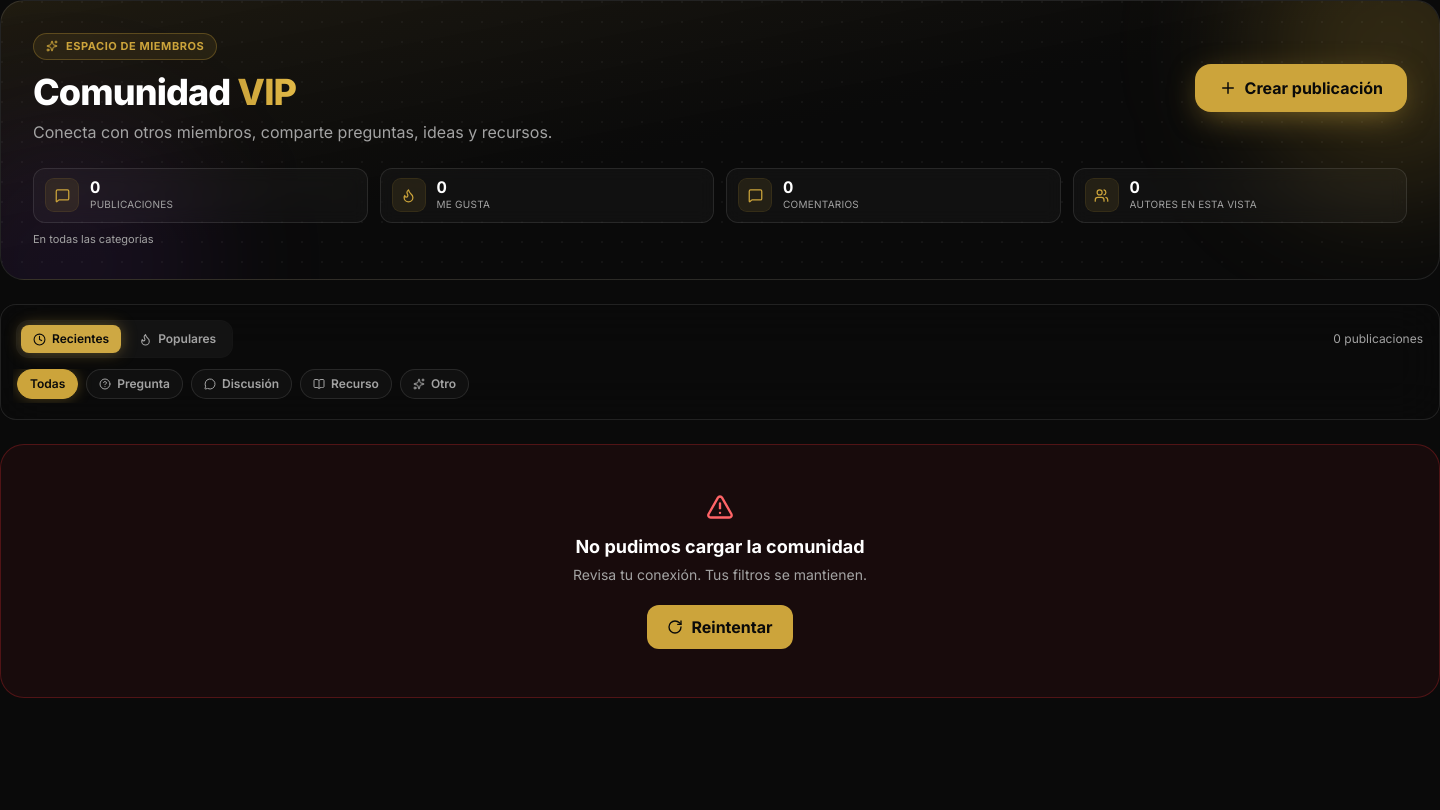
Scenario: CommunityFeed › un error de carga se muestra como error con Reintentar, no como «aún no hay publicaciones»
Expected: the heading "No pudimos cargar la comunidad" is shown, [575,536,865,557]
Click the button "Reintentar" at (720, 627), box [648,605,793,649]
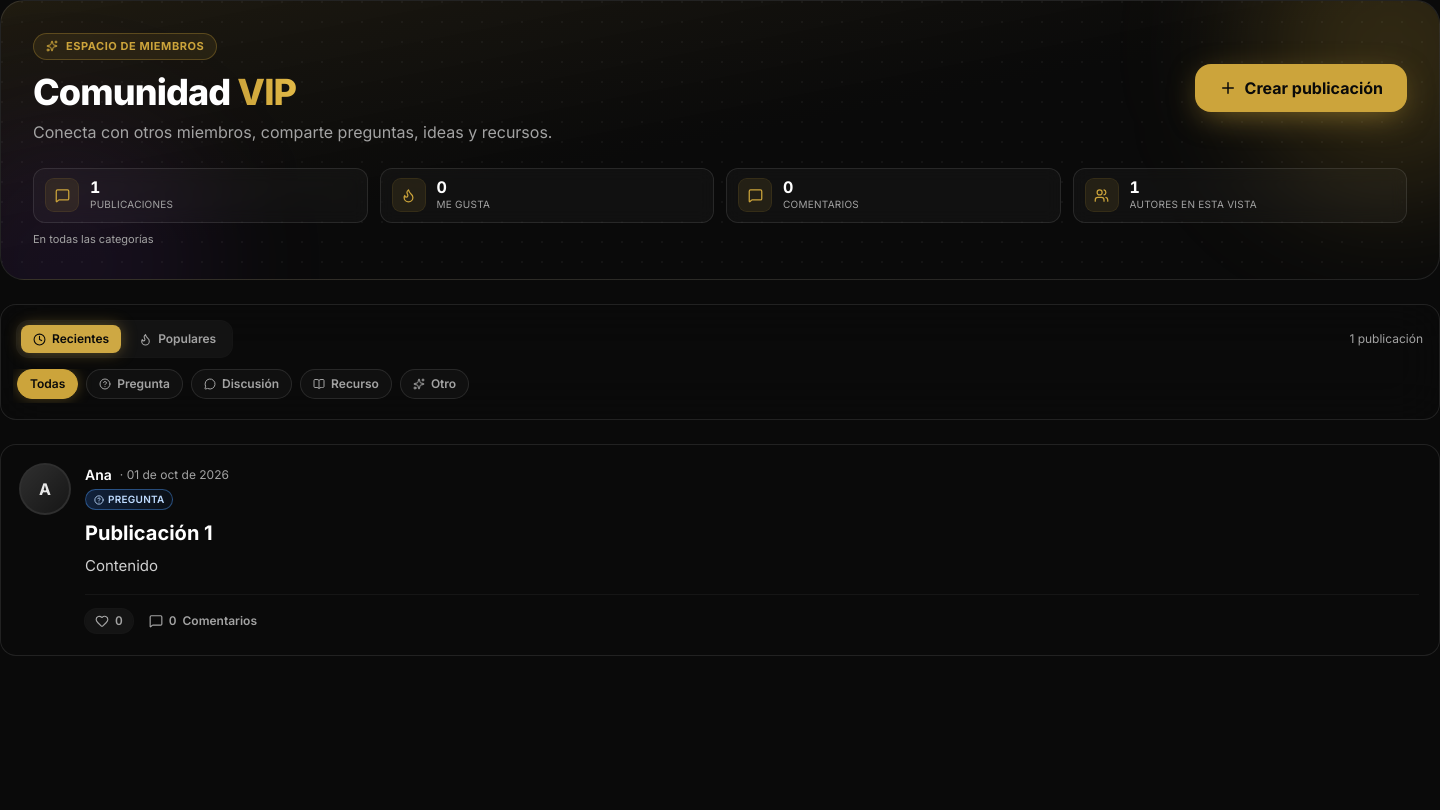
Now the button "Publicación 1" is shown, box [85,520,213,548]
